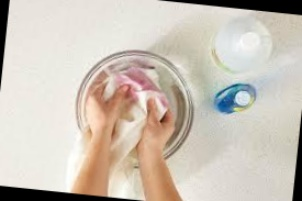wine: (111, 64, 166, 115)
